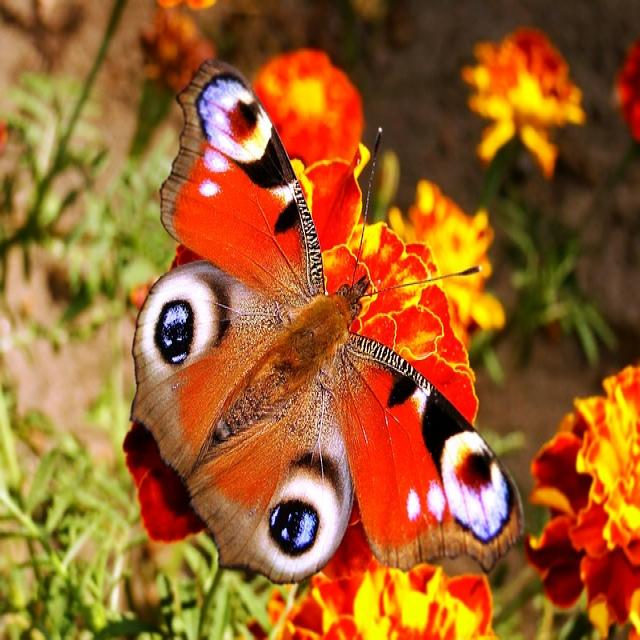butterfly: (123, 0, 541, 615)
